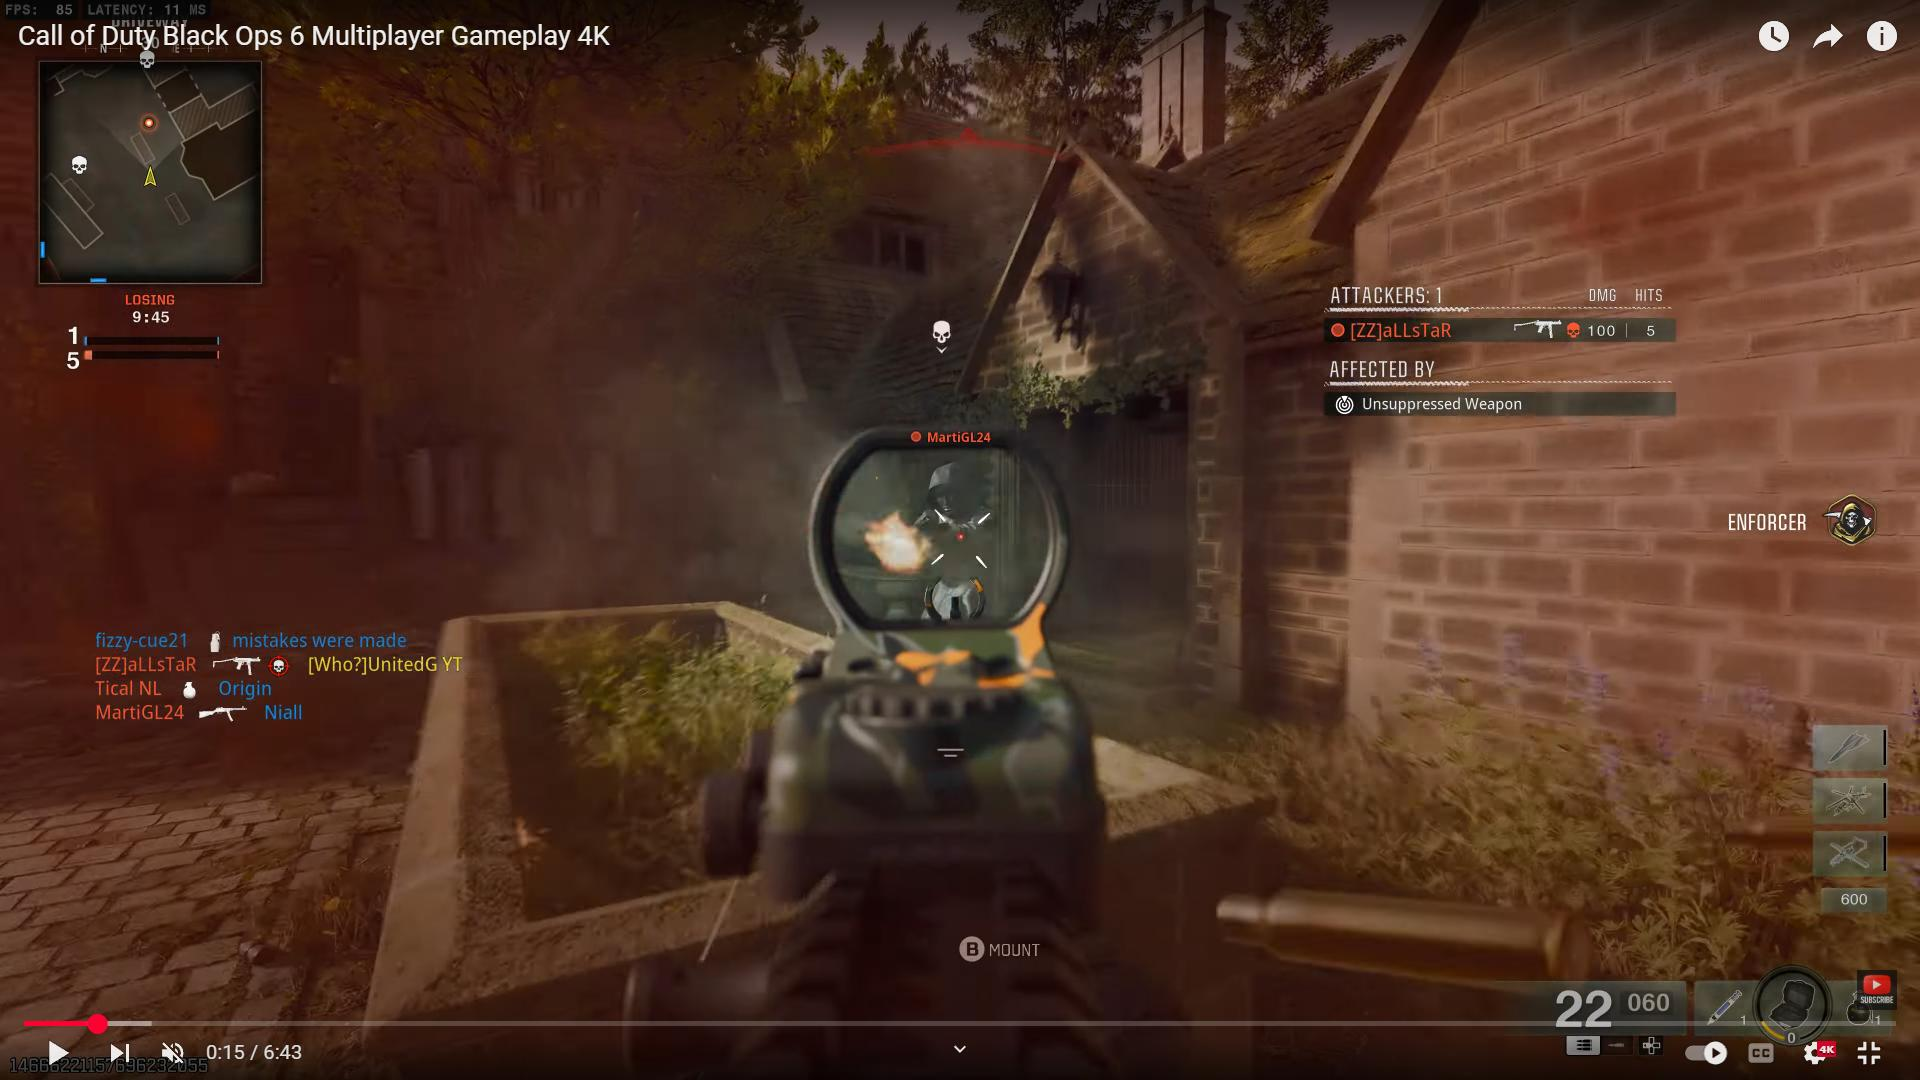Enemy: (895, 454, 1015, 618)
